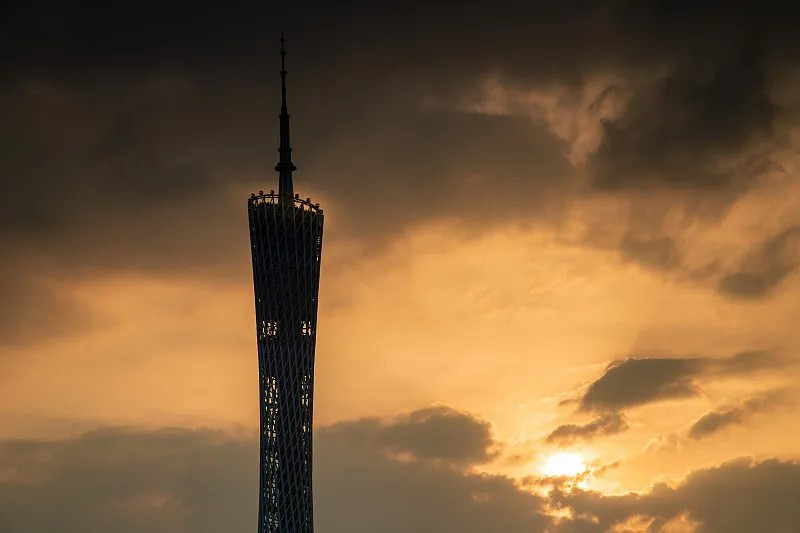Canton: (246, 31, 326, 533)
